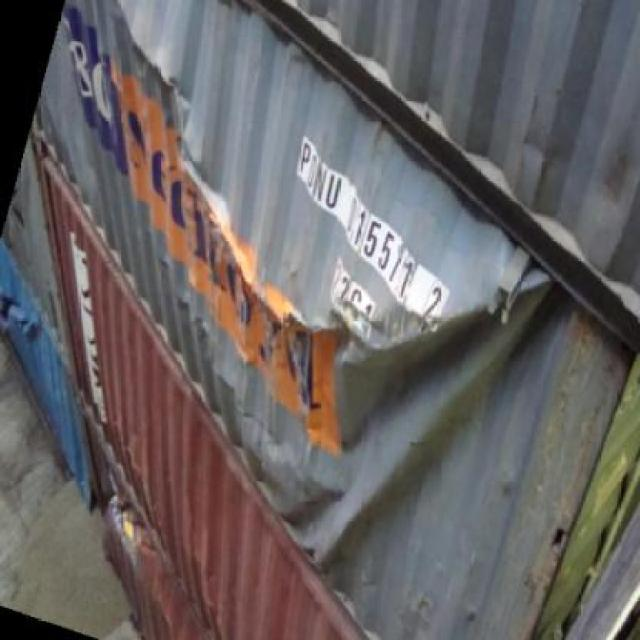dent: (118, 23, 310, 346), (383, 249, 554, 481), (236, 300, 378, 577)
